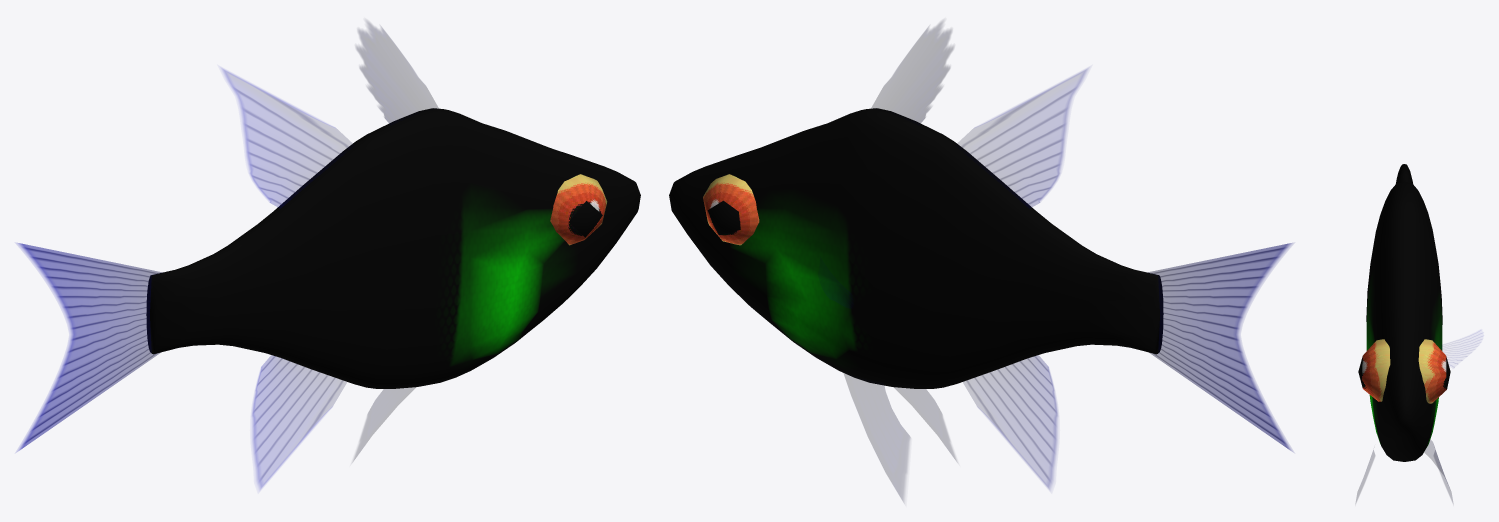
The model's file is cardinal_lod1.glb.
The picture shows the model from 3 angles, left to right: view 1: azimuth 30°, elevation 25°; view 2: azimuth 150°, elevation 25°; view 3: azimuth 270°, elevation 25°; orthographic projection. The views are drawn at different scales.
Visible parts, largest first — view 1: Body, FinCaudal, FinDorsal2, FinAnal, FinDorsal, EyeR, FinPelvicL; view 2: Body, FinCaudal, FinDorsal2, FinAnal, FinDorsal, FinPelvicL, EyeL, FinPelvicR; view 3: Body, EyeL, EyeR, FinPelvicL.
Part boxes in pixels (x1,y1,x2,y2): Body: [146, 108, 640, 388]; FinCaudal: [17, 243, 163, 451]; FinDorsal2: [221, 68, 354, 208]; FinAnal: [252, 355, 346, 489]; FinDorsal: [356, 21, 438, 125]; EyeR: [550, 174, 607, 245]; FinPelvicL: [353, 387, 415, 460]; Body: [669, 108, 1163, 388]; FinCaudal: [1146, 243, 1292, 451]; FinDorsal2: [955, 68, 1088, 208]; FinAnal: [963, 355, 1057, 489]; FinDorsal: [871, 21, 953, 125]; FinPelvicL: [843, 372, 910, 501]; EyeL: [703, 174, 759, 245]; FinPelvicR: [894, 387, 956, 460]; Body: [1366, 164, 1442, 461]; EyeL: [1418, 339, 1450, 403]; EyeR: [1358, 339, 1390, 401]; FinPelvicL: [1424, 440, 1452, 502].
Bounding box in the file's own units: 1 × 0.7281 × 0.2433.
Materials: 4 (3 with a texture image).
